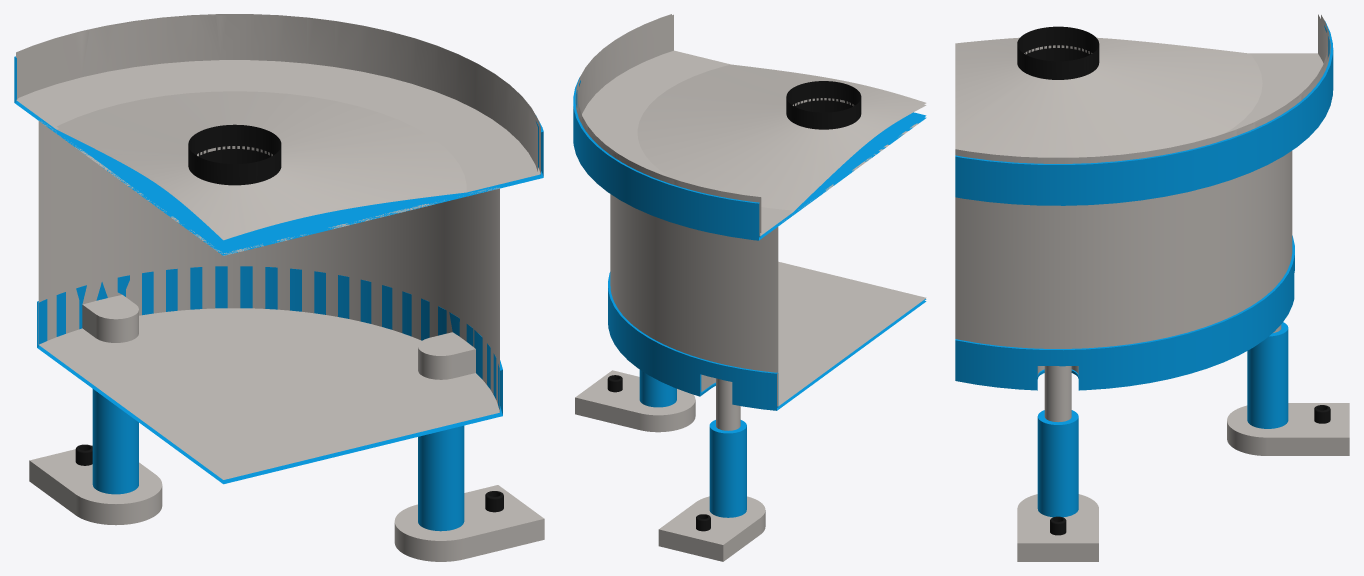
File: PinInsertionStation_Cube03.glb
3 renders of one model, left to right at view 1: azimuth 30°, elevation 25°; view 2: azimuth 150°, elevation 25°; view 3: azimuth 270°, elevation 25°, orthographic. The views are drawn at different scales.
Visible parts, largest first — view 1: color-25; view 2: color-25; view 3: color-25.
Boxes of the visible parts, x1,y1,x2,y2 form: color-25: (14,14,544,561); color-25: (573,14,926,561); color-25: (955,14,1349,561).
Size of the model in its own units: 0.2662 by 0.32 by 0.2895.
